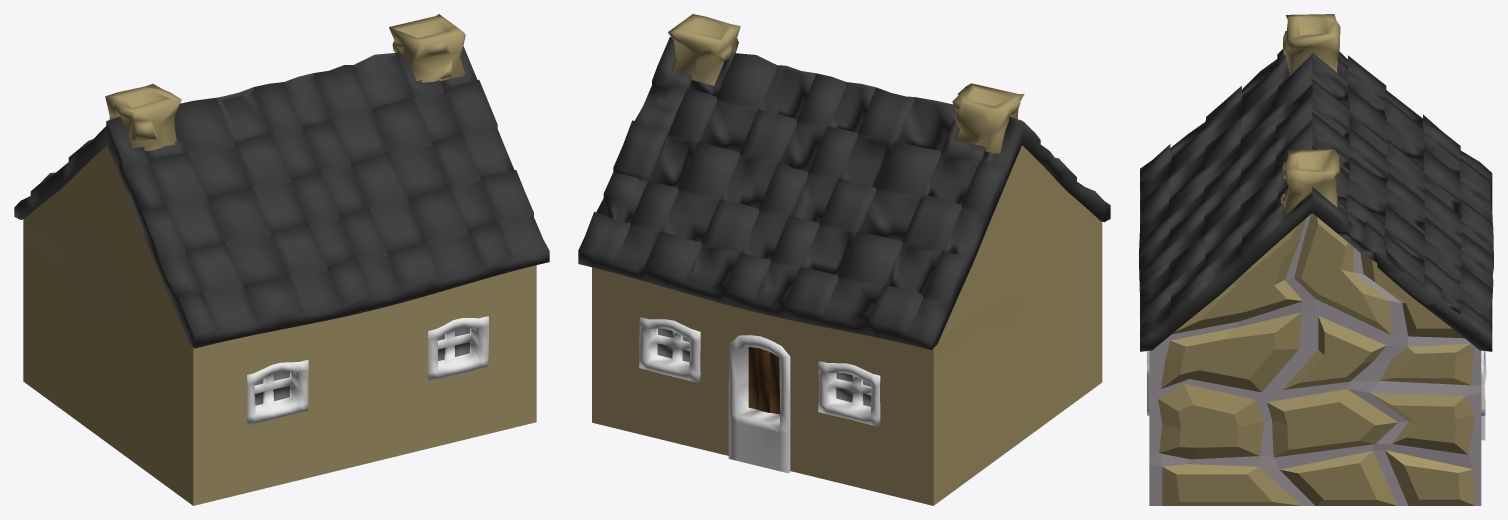
The model's file is KeeperHouse.fbx.
3 views of the same model, side by side, from view 1: azimuth 30°, elevation 25°; view 2: azimuth 150°, elevation 25°; view 3: azimuth 270°, elevation 25° (orthographic). The views are drawn at different scales.
Visible parts, largest first — view 1: KeeperHouse_Roof, KeeperHouse_Walls, KeeperHouse_Chimneys, KeeperHouse_Windows; view 2: KeeperHouse_Roof, KeeperHouse_Walls, KeeperHouse_Door, KeeperHouse_Chimneys, KeeperHouse_Windows; view 3: KeeperHouse_Walls, KeeperHouse_Roof, KeeperHouse_Chimneys, KeeperHouse_Windows.
Boxes of the visible parts, left/top/right/bottom form: KeeperHouse_Roof: left=14, top=46, right=549, bottom=348; KeeperHouse_Walls: left=23, top=145, right=536, bottom=505; KeeperHouse_Chimneys: left=105, top=14, right=465, bottom=150; KeeperHouse_Windows: left=247, top=316, right=488, bottom=425; KeeperHouse_Roof: left=578, top=37, right=1110, bottom=349; KeeperHouse_Walls: left=592, top=145, right=1102, bottom=505; KeeperHouse_Door: left=728, top=335, right=790, bottom=473; KeeperHouse_Chimneys: left=668, top=14, right=1024, bottom=153; KeeperHouse_Windows: left=639, top=317, right=880, bottom=426; KeeperHouse_Walls: left=1149, top=58, right=1481, bottom=505; KeeperHouse_Roof: left=1139, top=49, right=1493, bottom=351; KeeperHouse_Chimneys: left=1281, top=14, right=1340, bottom=214; KeeperHouse_Windows: left=1147, top=350, right=1485, bottom=415.
Bounding box in the file's own units: 9.95 × 9.1 × 8.81.
